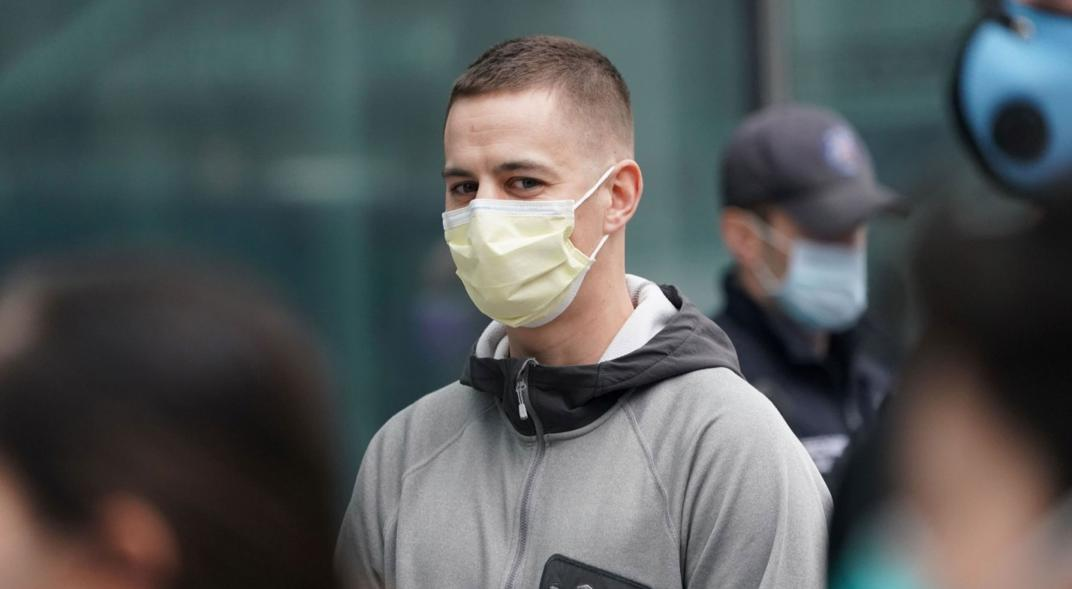barbijo: (422, 166, 627, 332)
